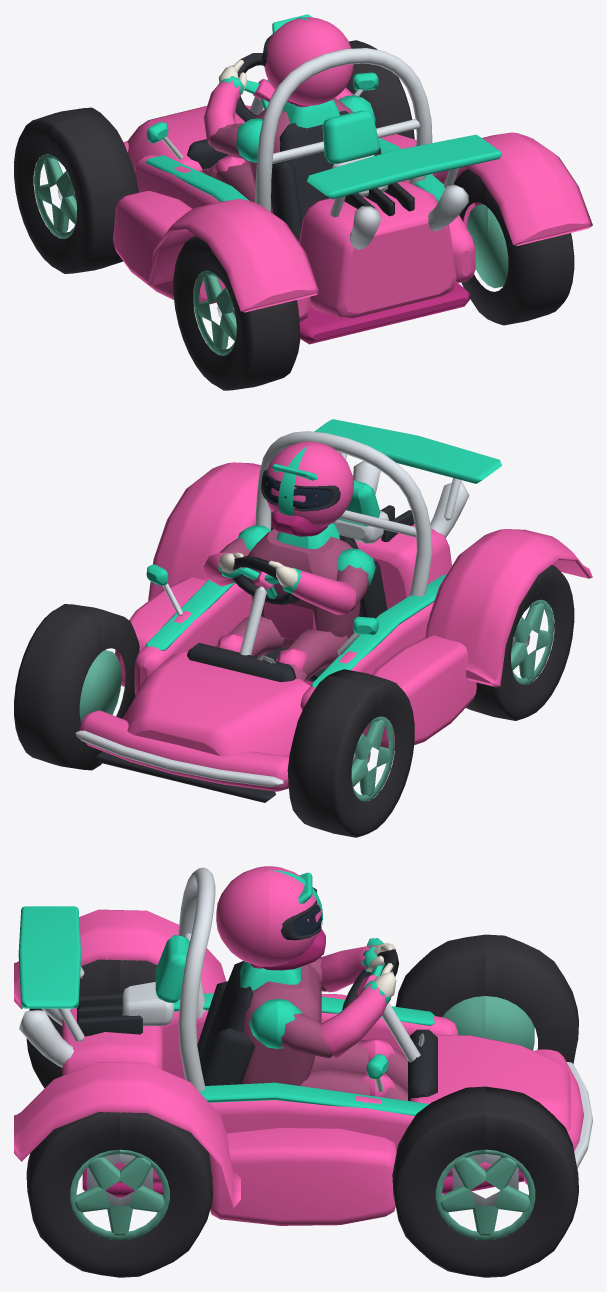
Rendered from kart_3.glb.
3 renders of one model, top to bottom at view 1: azimuth 30°, elevation 25°; view 2: azimuth 150°, elevation 25°; view 3: azimuth 270°, elevation 25°, orthographic. The views are drawn at different scales.
Visible parts, largest first — view 1: bodyPaint, bodyFenders, WheelFL_tyre, WheelRL_tyre, WheelRR_tyre, bodyChrome, bodyPlastic, driverHelmet, driverArms, driverTorso, WheelFR_tyre, steeringWheel; view 2: bodyPaint, bodyFenders, WheelFL_tyre, WheelFR_tyre, bodyChrome, driverTorso, WheelRL_tyre, driverHelmet, bodyPlastic, driverArms, steeringWheel, driverVisor; view 3: bodyPaint, WheelFR_tyre, WheelRR_tyre, bodyFenders, WheelFL_tyre, bodyChrome, driverTorso, bodyPlastic, driverHelmet, driverArms, WheelRL_tyre, steeringWheel (+1 smaller).
Boxes of the visible parts, <box> form: bodyPaint: <box>113,72,501,322</box>; bodyFenders: <box>148,132,592,312</box>; WheelFL_tyre: <box>14,107,138,273</box>; WheelRL_tyre: <box>173,236,300,390</box>; WheelRR_tyre: <box>453,169,574,325</box>; bodyChrome: <box>162,48,468,249</box>; bodyPlastic: <box>187,110,470,344</box>; driverHelmet: <box>261,14,353,105</box>; driverArms: <box>203,59,375,162</box>; driverTorso: <box>207,98,352,213</box>; WheelFR_tyre: <box>346,40,414,139</box>; steeringWheel: <box>235,53,275,121</box>; bodyPaint: <box>80,419,501,791</box>; bodyFenders: <box>148,462,592,687</box>; WheelFL_tyre: <box>287,669,414,837</box>; WheelFR_tyre: <box>14,604,139,770</box>; bodyChrome: <box>75,431,469,786</box>; driverTorso: <box>216,523,360,681</box>; WheelRL_tyre: <box>466,565,574,720</box>; driverHelmet: <box>261,441,353,536</box>; bodyPlastic: <box>96,505,414,802</box>; driverArms: <box>203,525,375,614</box>; steeringWheel: <box>232,556,299,604</box>; driverVisor: <box>263,475,331,508</box>; bodyPaint: <box>18,906,583,1225</box>; WheelFR_tyre: <box>392,1086,578,1277</box>; WheelRR_tyre: <box>26,1112,212,1277</box>; bodyFenders: <box>14,909,240,1208</box>; WheelFL_tyre: <box>395,934,578,1063</box>; bodyChrome: <box>19,867,592,1168</box>; driverTorso: <box>240,961,407,1100</box>; bodyPlastic: <box>77,961,524,1198</box>; driverHelmet: <box>216,866,325,970</box>; driverArms: <box>249,943,396,1058</box>; WheelRL_tyre: <box>26,959,157,1088</box>; steeringWheel: <box>342,949,398,1009</box>.
Size of the model in its own units: 1.86 by 1.43 by 2.31.
